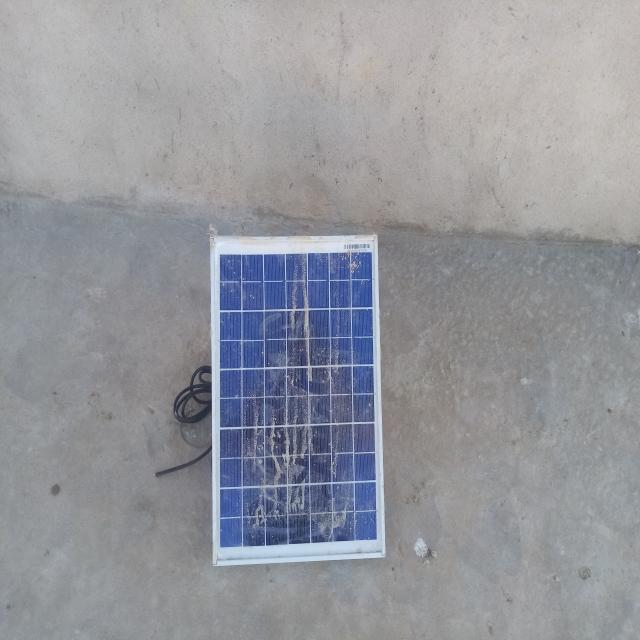faulty: (213, 236, 385, 567)
